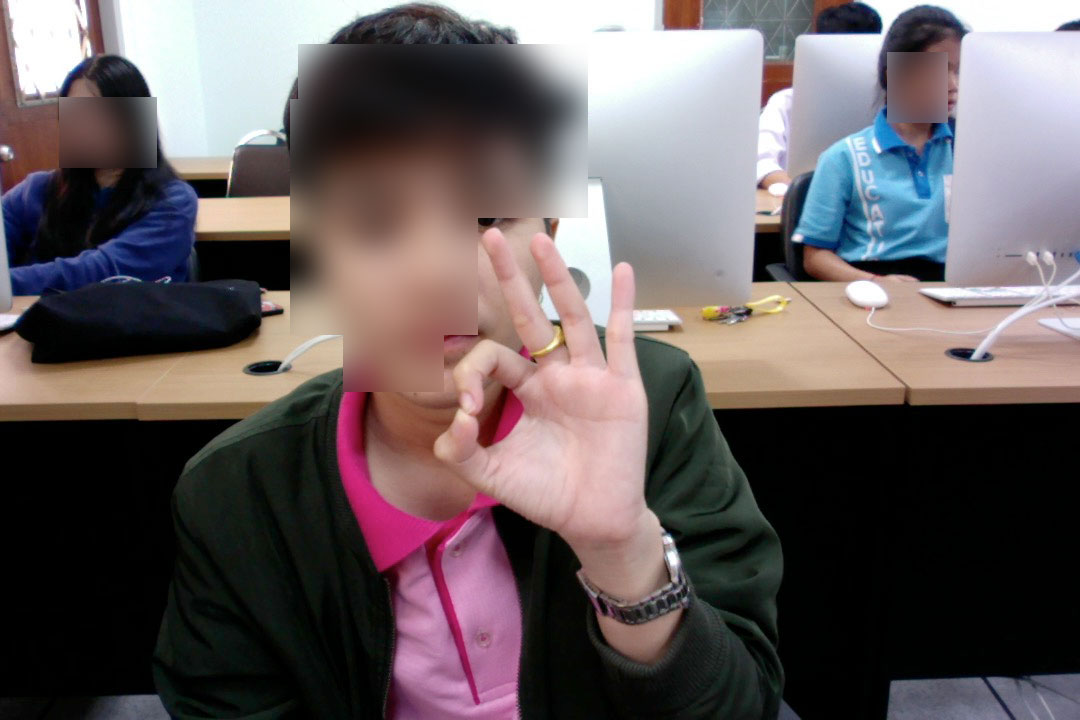for: (389, 207, 684, 572)
